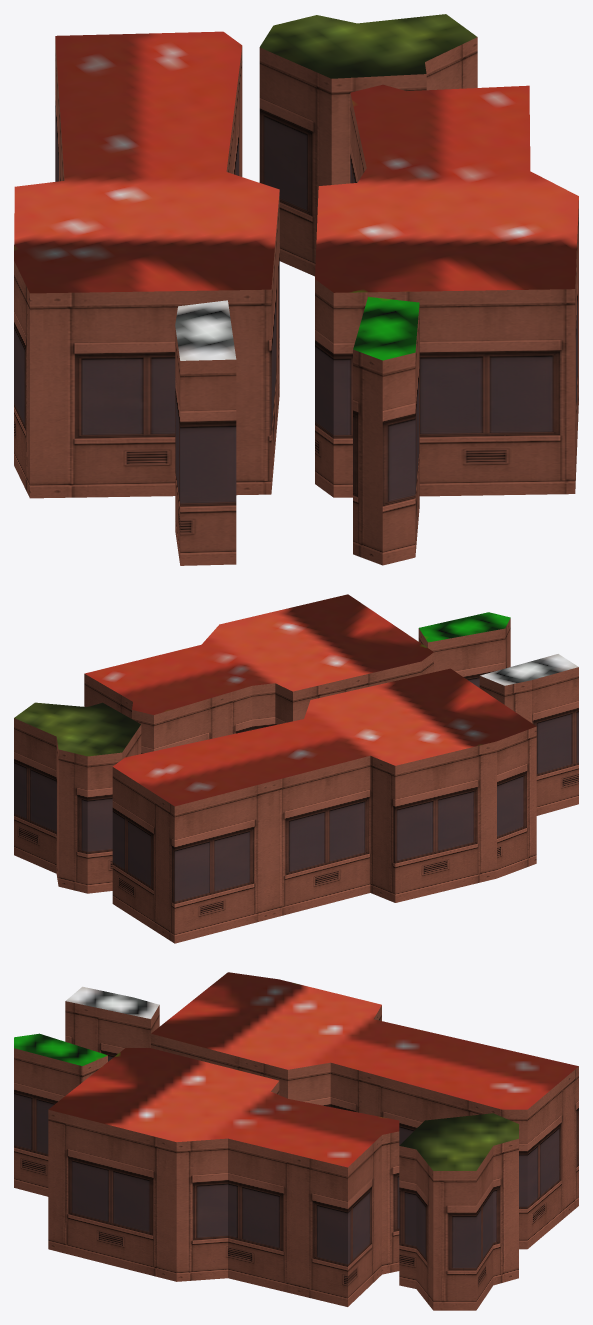
Rendered from light_c.glb.
3 renders of one model, top to bottom at view 1: azimuth 30°, elevation 25°; view 2: azimuth 150°, elevation 25°; view 3: azimuth 270°, elevation 25°, orthographic. The views are drawn at different scales.
Parts seen in each view (by area): view 1: buildings/saxarba/SMV_Buildings/light_c; view 2: buildings/saxarba/SMV_Buildings/light_c; view 3: buildings/saxarba/SMV_Buildings/light_c.
Boxes of the visible parts, <box> form: buildings/saxarba/SMV_Buildings/light_c: <box>14,14,578,565</box>; buildings/saxarba/SMV_Buildings/light_c: <box>14,594,578,943</box>; buildings/saxarba/SMV_Buildings/light_c: <box>14,972,578,1310</box>.
Bounding box in the file's own units: 55 × 18 × 66.
